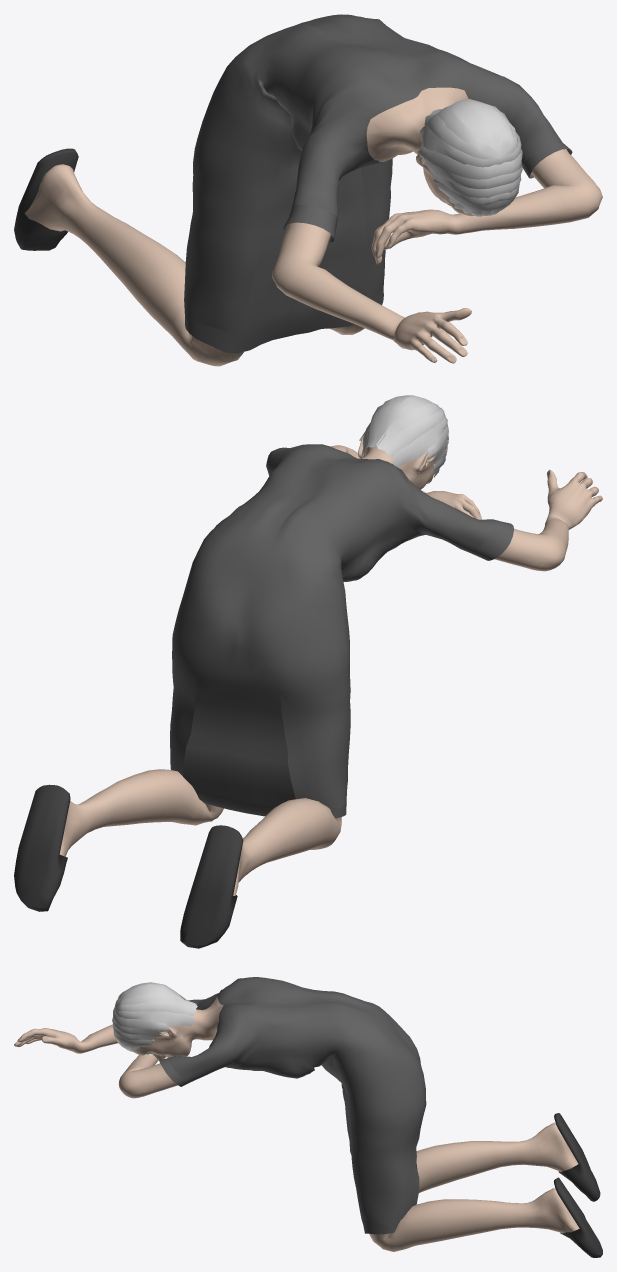
The model's file is WomanLM3.fbx.
3 renders of one model, top to bottom at view 1: azimuth 30°, elevation 25°; view 2: azimuth 150°, elevation 25°; view 3: azimuth 270°, elevation 25°, orthographic. The views are drawn at different scales.
Visible parts, largest first — view 1: WomanLM3; view 2: WomanLM3; view 3: WomanLM3.
Part boxes in pixels (box(x1,y1,x2,y2)): WomanLM3: box(14, 14, 602, 366); WomanLM3: box(14, 395, 602, 948); WomanLM3: box(14, 977, 602, 1257).
Bounding box in the file's own units: 0.5873 × 0.6732 × 1.46.
